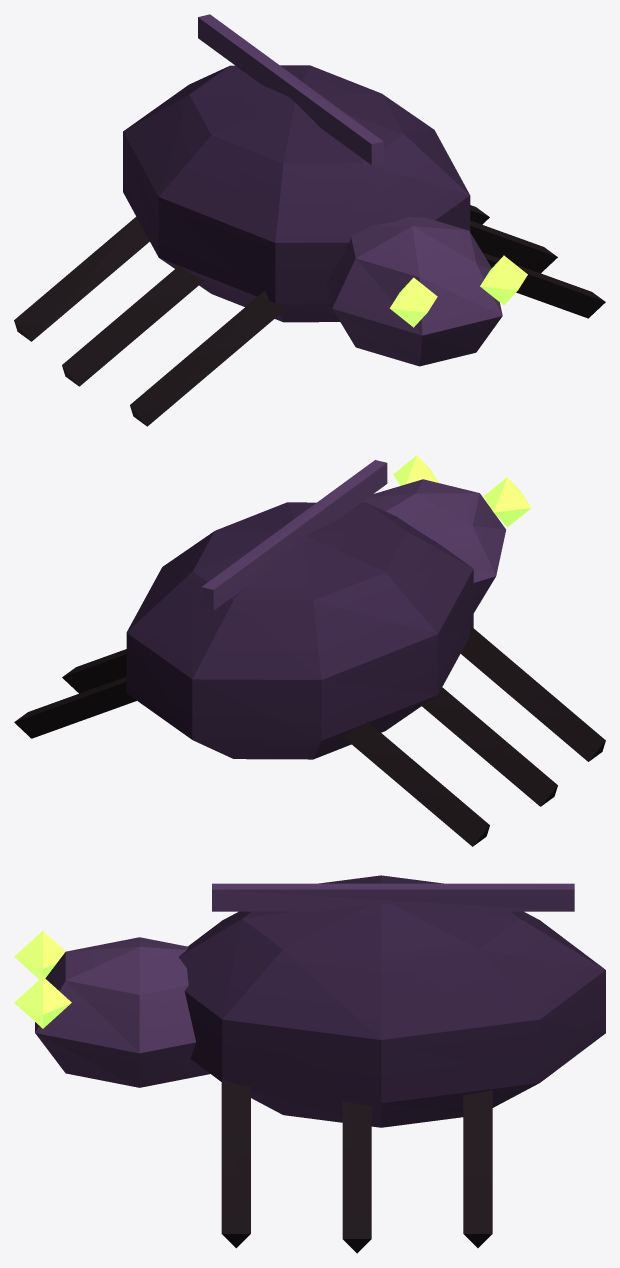
Rendered from scuttler.glb.
The picture shows the model from 3 angles, top to bottom: view 1: azimuth 30°, elevation 25°; view 2: azimuth 150°, elevation 25°; view 3: azimuth 270°, elevation 25°; orthographic projection. The views are drawn at different scales.
Parts seen in each view (by area): view 1: scuttler; view 2: scuttler; view 3: scuttler.
Boxes of the visible parts, x1=… form: scuttler: x1=14, y1=14, x2=605, y2=426; scuttler: x1=14, y1=455, x2=605, y2=846; scuttler: x1=14, y1=875, x2=605, y2=1253.
Size of the model in its own units: 0.4876 by 0.2271 by 0.4899.
